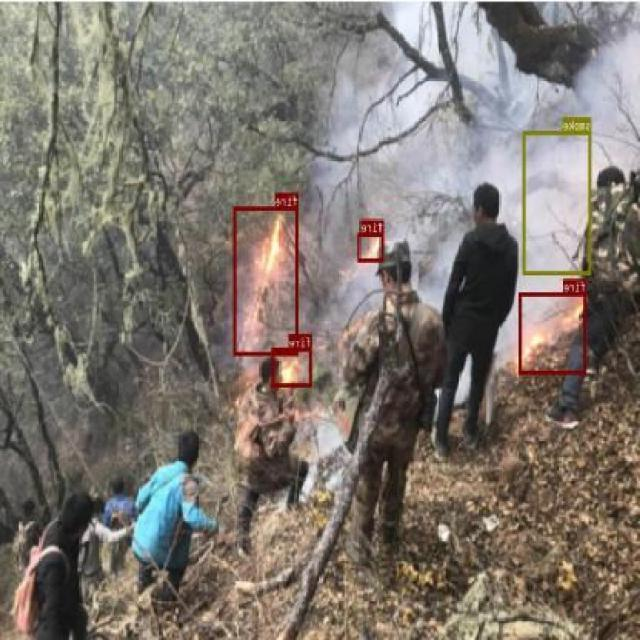Fire: (234, 207, 300, 356), (519, 292, 587, 374), (272, 348, 312, 386), (358, 232, 384, 262)
Smoke: (523, 130, 592, 275)
